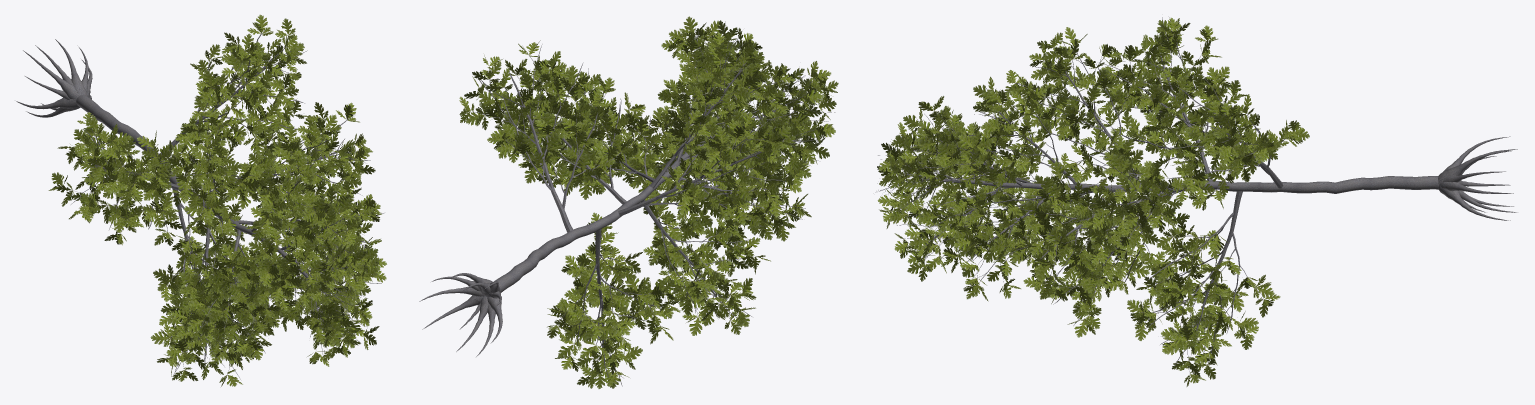
3 views of the same model, side by side, from view 1: azimuth 30°, elevation 25°; view 2: azimuth 150°, elevation 25°; view 3: azimuth 270°, elevation 25° (orthographic). The views are drawn at different scales.
Parts seen in each view (by area): view 1: EU39y; view 2: EU39y; view 3: EU39y.
Part boxes in pixels (x1,y1,x2,y2): EU39y: (16,14,386,386); EU39y: (419,16,838,388); EU39y: (875,17,1517,386).
Bounding box in the file's own units: 34.52 × 34.37 × 60.22.
2 materials, 2 textured.
